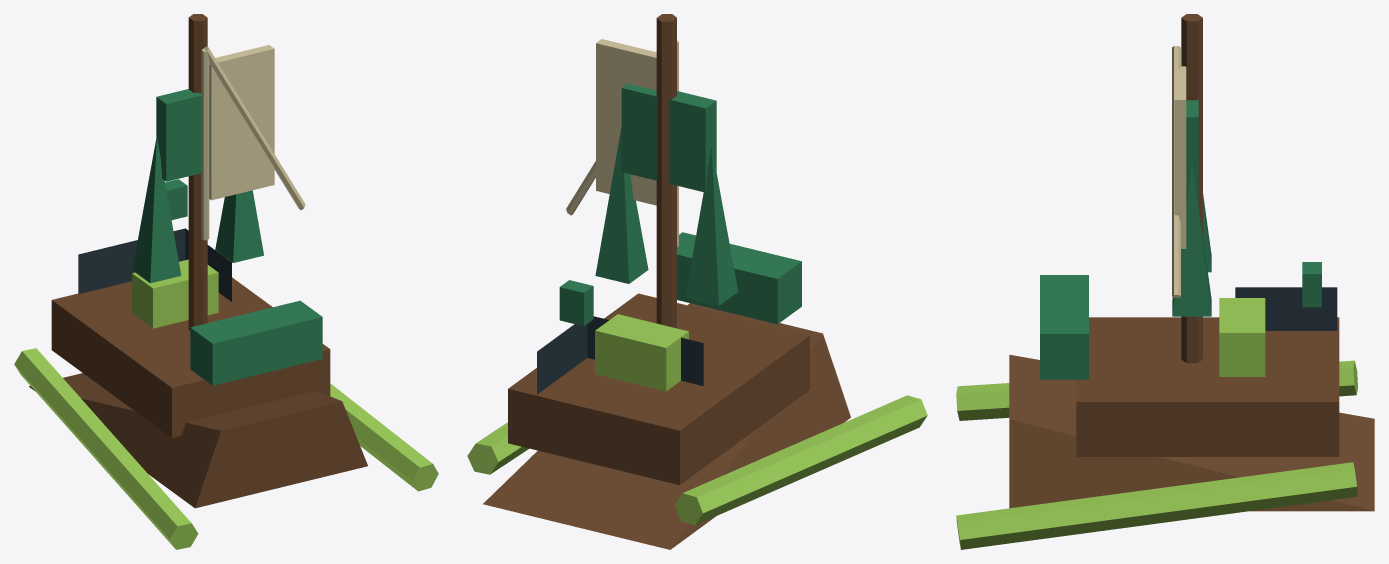
File: raft.obj
The picture shows the model from 3 angles, left to right: view 1: azimuth 30°, elevation 25°; view 2: azimuth 150°, elevation 25°; view 3: azimuth 270°, elevation 25°; orthographic projection. The views are drawn at different scales.
Parts seen in each view (by area): view 1: ship; view 2: ship; view 3: ship.
Part boxes in pixels (x1,y1,x2,y2): ship: [14, 14, 438, 549]; ship: [467, 14, 927, 549]; ship: [956, 14, 1374, 549].
Bounding box in the file's own units: 1.56 × 2.35 × 1.92.
